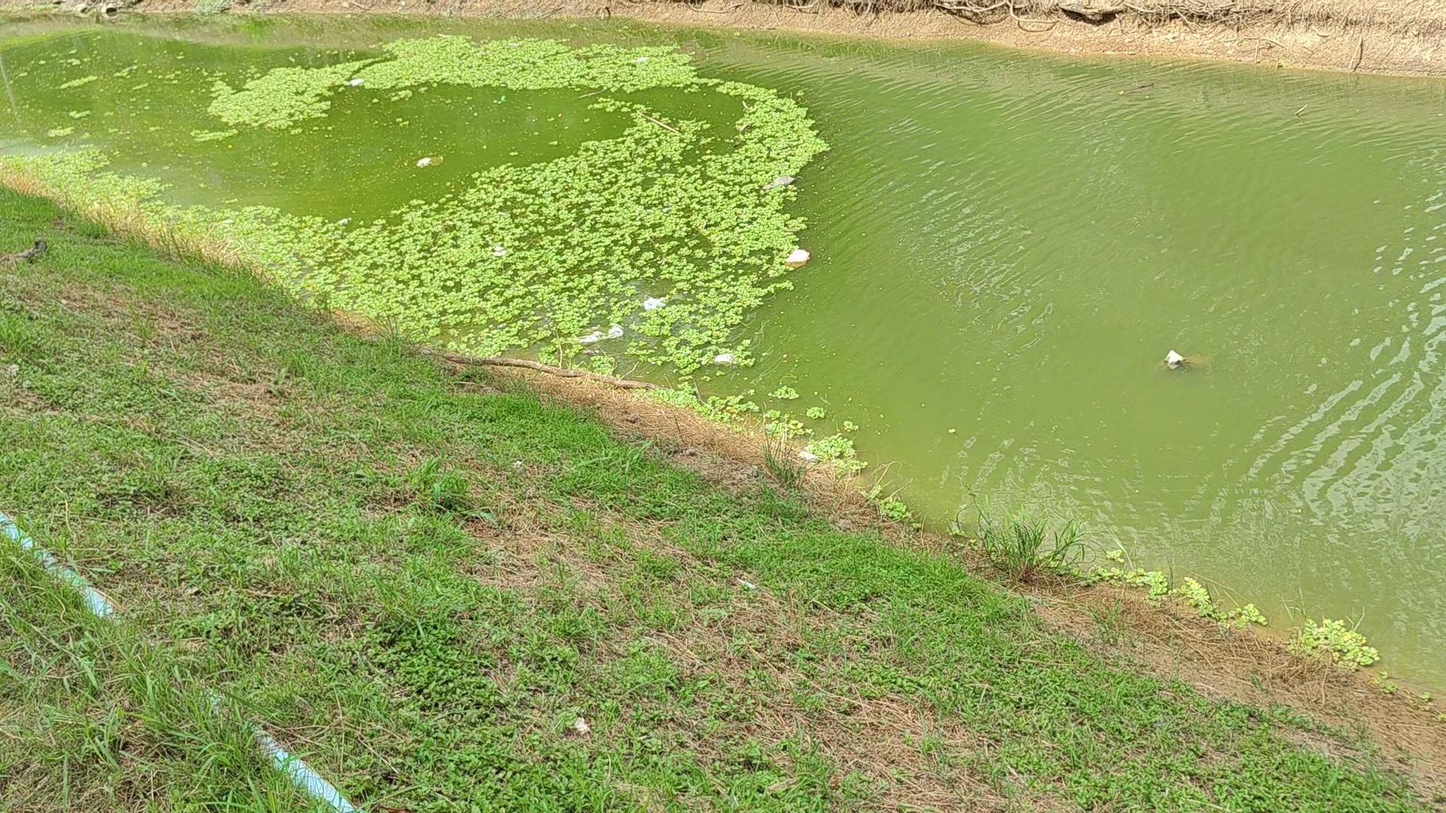trash: (577, 324, 624, 343), (763, 175, 795, 190), (786, 248, 810, 267), (1165, 350, 1185, 368), (644, 297, 665, 310), (714, 353, 734, 364), (416, 157, 433, 166), (493, 245, 505, 257), (347, 78, 363, 86), (635, 56, 648, 62)
